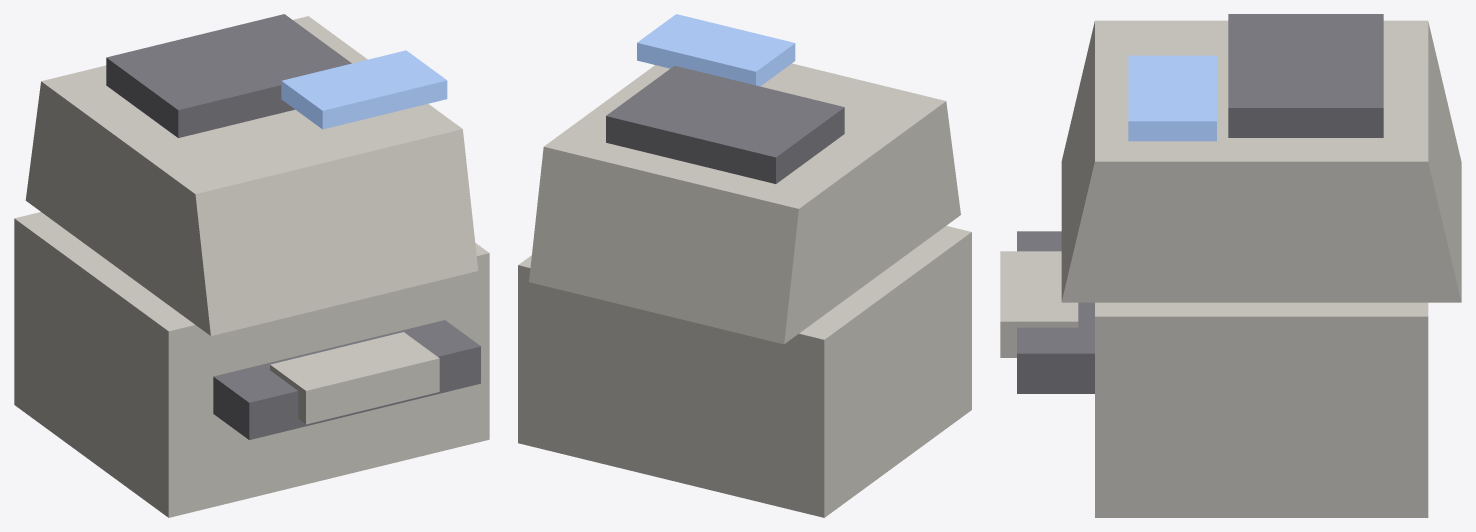
Rendered from casino-floor-and-back-rooms-money-counter-292a056a__27064.glb.
3 views of the same model, side by side, from view 1: azimuth 30°, elevation 25°; view 2: azimuth 150°, elevation 25°; view 3: azimuth 270°, elevation 25° (orthographic). The views are drawn at different scales.
Visible parts, largest first — view 1: money-counter; view 2: money-counter; view 3: money-counter.
Part boxes in pixels (x1,y1,x2,y2): money-counter: (14, 14, 489, 517); money-counter: (518, 14, 971, 517); money-counter: (1000, 14, 1461, 517).
Size of the model in its own units: 0.36 by 0.38 by 0.415.
